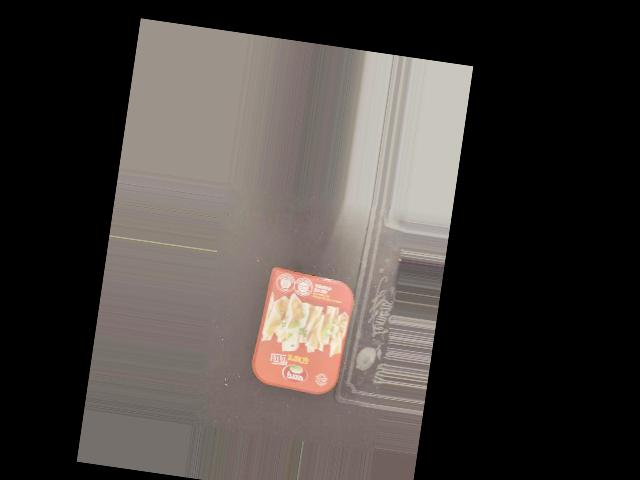cheese: (254, 270, 351, 393)
